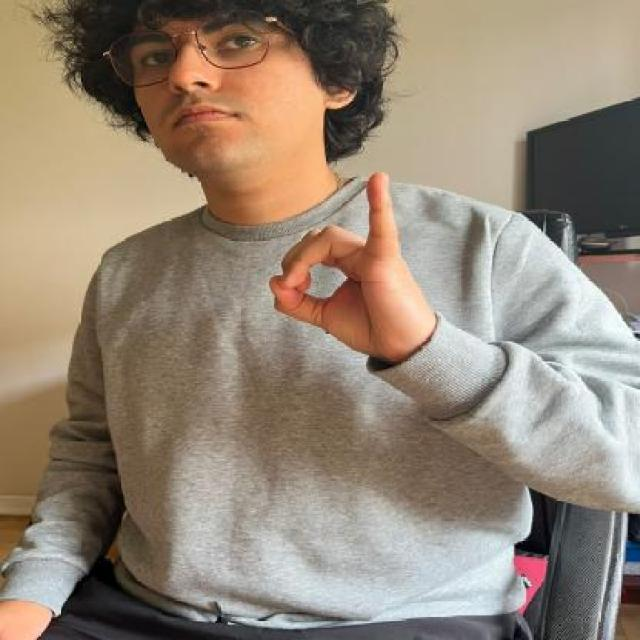D: (262, 167, 428, 358)
